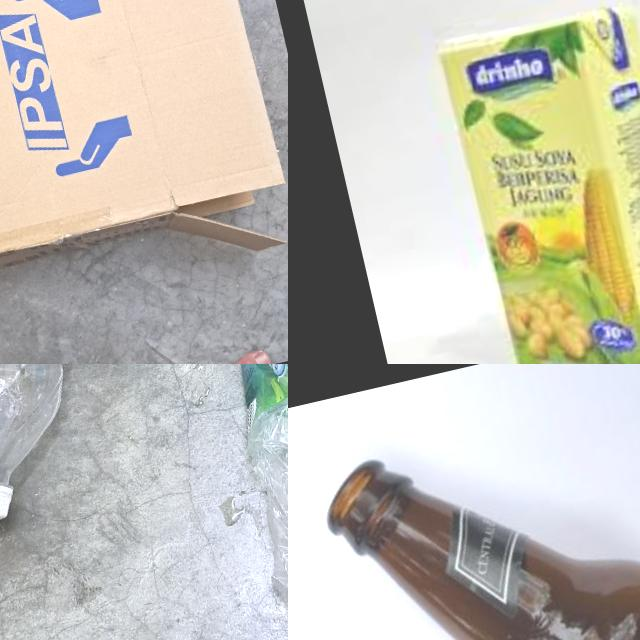caixinha: (438, 0, 640, 364)
garrafa de vidro: (311, 364, 640, 640)
garrafa plástica: (0, 364, 175, 500), (209, 364, 288, 633)
papelão: (0, 0, 288, 338)
tampa plástica: (0, 456, 23, 534)
